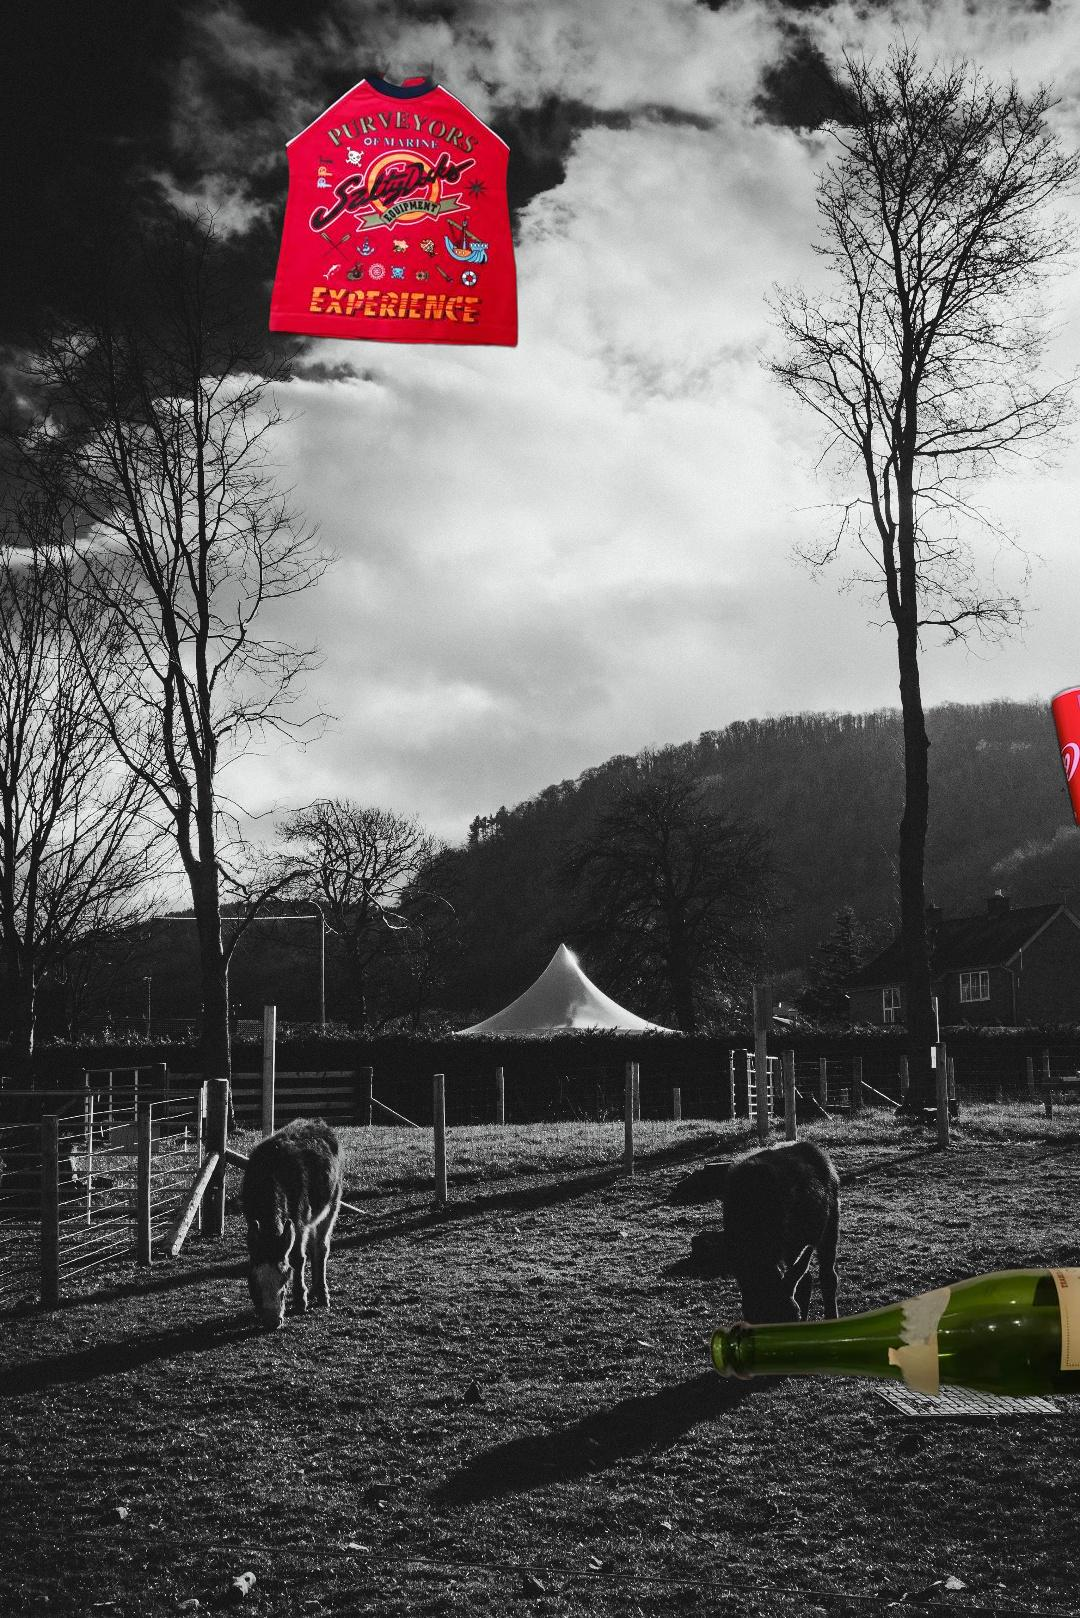clothes: (265, 54, 522, 352)
glass: (705, 1259, 1080, 1423)
metal-cans: (1047, 679, 1080, 835)
